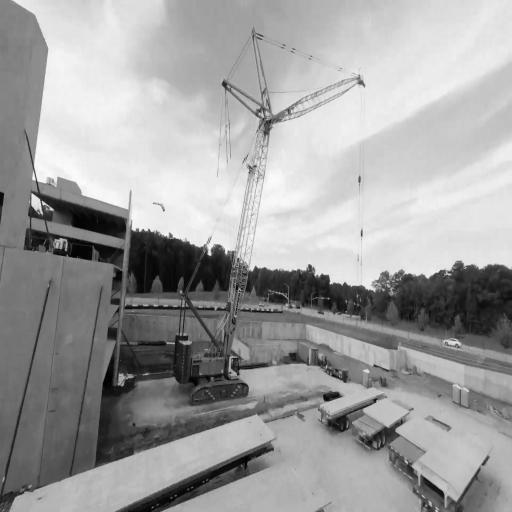uav: (152, 201, 166, 213)
